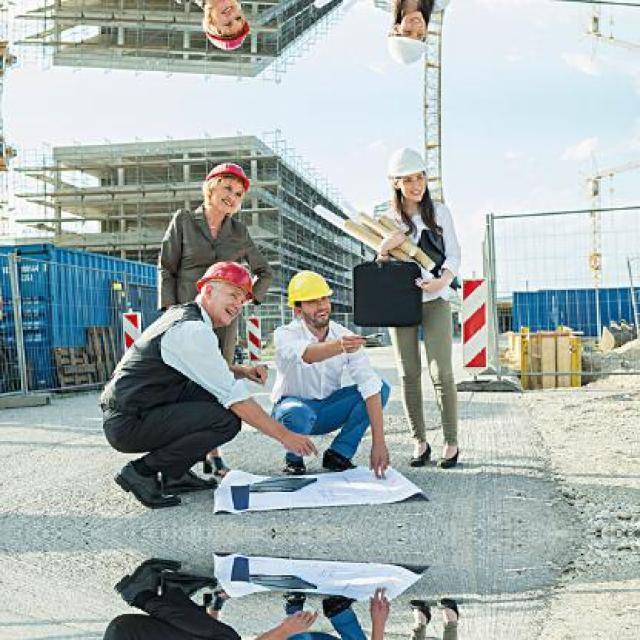helmet: (185, 250, 264, 328), (381, 0, 434, 82), (382, 131, 433, 213), (281, 266, 337, 331), (192, 158, 251, 215), (192, 0, 252, 56)
